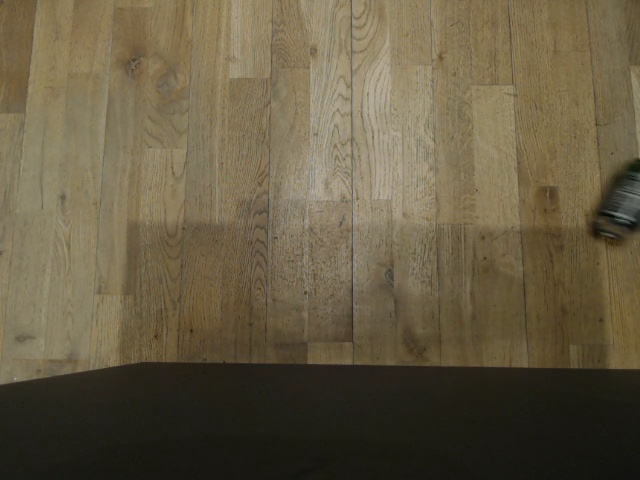beer: (597, 164, 640, 242)
